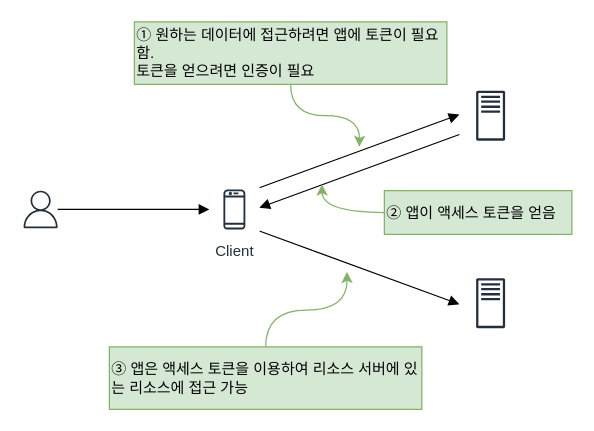
Some shapes in this 594 by 431 pixel diagram are drawn without their labels. Here are the shapes that lost their labels. From the top down, the box of each, then its label:
(458, 83, 522, 147): 권한 부여 서버
(458, 271, 522, 334): 리소스 서버
